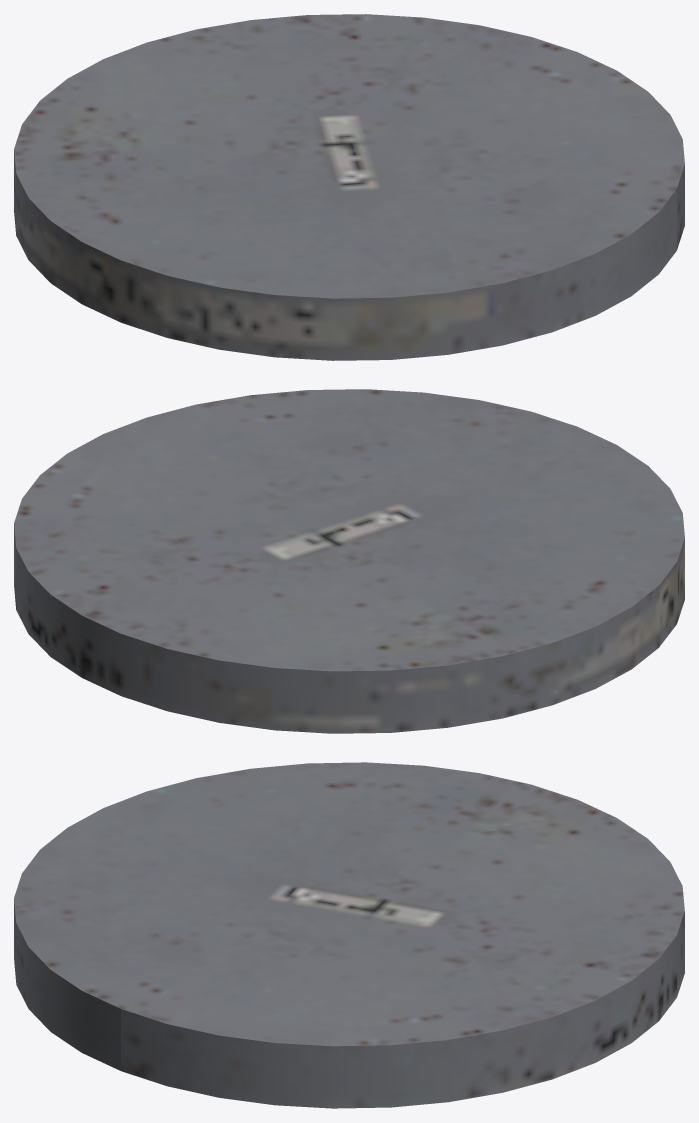
File: 023_FilmReel.fbx
3 views of the same model, one above another, from view 1: azimuth 30°, elevation 25°; view 2: azimuth 150°, elevation 25°; view 3: azimuth 270°, elevation 25° (orthographic).
Parts seen in each view (by area): view 1: LOD_1_Group_0_Sub_1__sm36_021_FilmReel01A_A_Mat; view 2: LOD_1_Group_0_Sub_1__sm36_021_FilmReel01A_A_Mat; view 3: LOD_1_Group_0_Sub_1__sm36_021_FilmReel01A_A_Mat.
Part boxes in pixels (x1,y1,x2,y2): LOD_1_Group_0_Sub_1__sm36_021_FilmReel01A_A_Mat: [14, 14, 684, 360]; LOD_1_Group_0_Sub_1__sm36_021_FilmReel01A_A_Mat: [14, 389, 684, 733]; LOD_1_Group_0_Sub_1__sm36_021_FilmReel01A_A_Mat: [14, 762, 684, 1108].
Bounding box in the file's own units: 0.2734 × 0.0311 × 0.2735.
